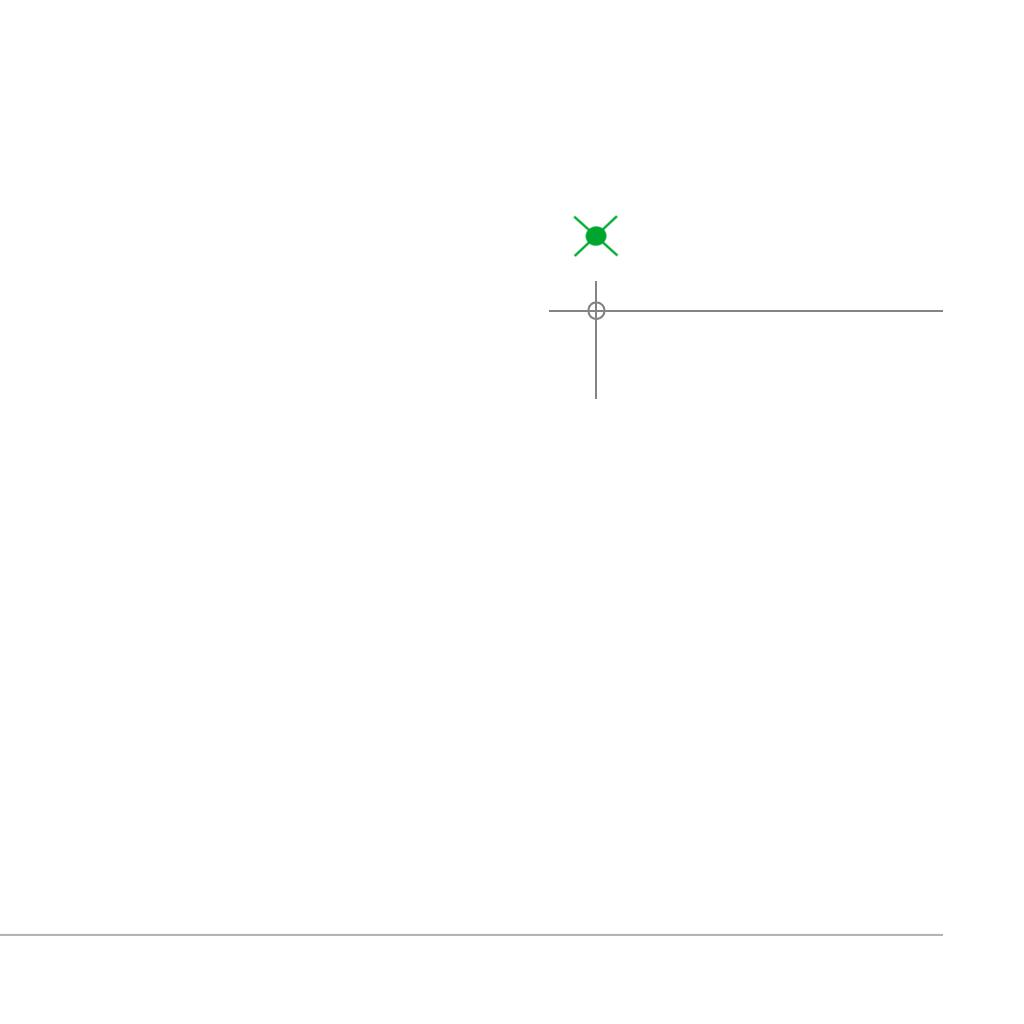Notlichtbaustein_in_Allgemeinbeleuchtug_engebaut_Einbau_(1UG_und_2UG_Aufbauvaria: (571, 210, 621, 261)
